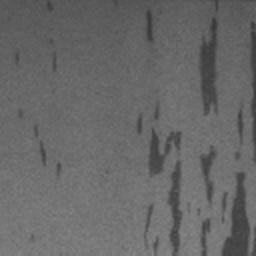Red iron sheet: (137, 19, 256, 256), (200, 0, 223, 116), (33, 124, 61, 175), (145, 9, 154, 44), (51, 52, 58, 73), (14, 52, 20, 67), (46, 0, 52, 13)
